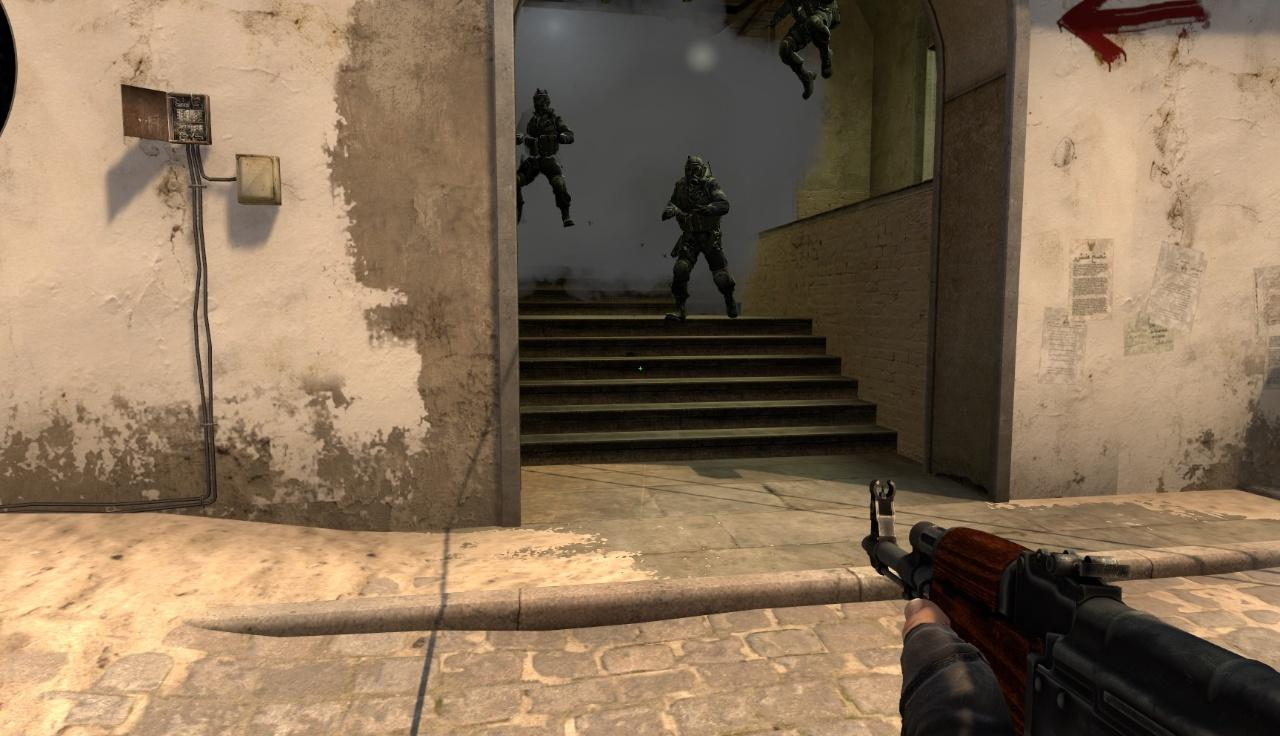ct: (663, 157, 734, 320), (516, 88, 574, 227), (778, 0, 840, 99)
cthead: (682, 157, 705, 184), (533, 87, 551, 114)
rifle: (860, 479, 1280, 736)
